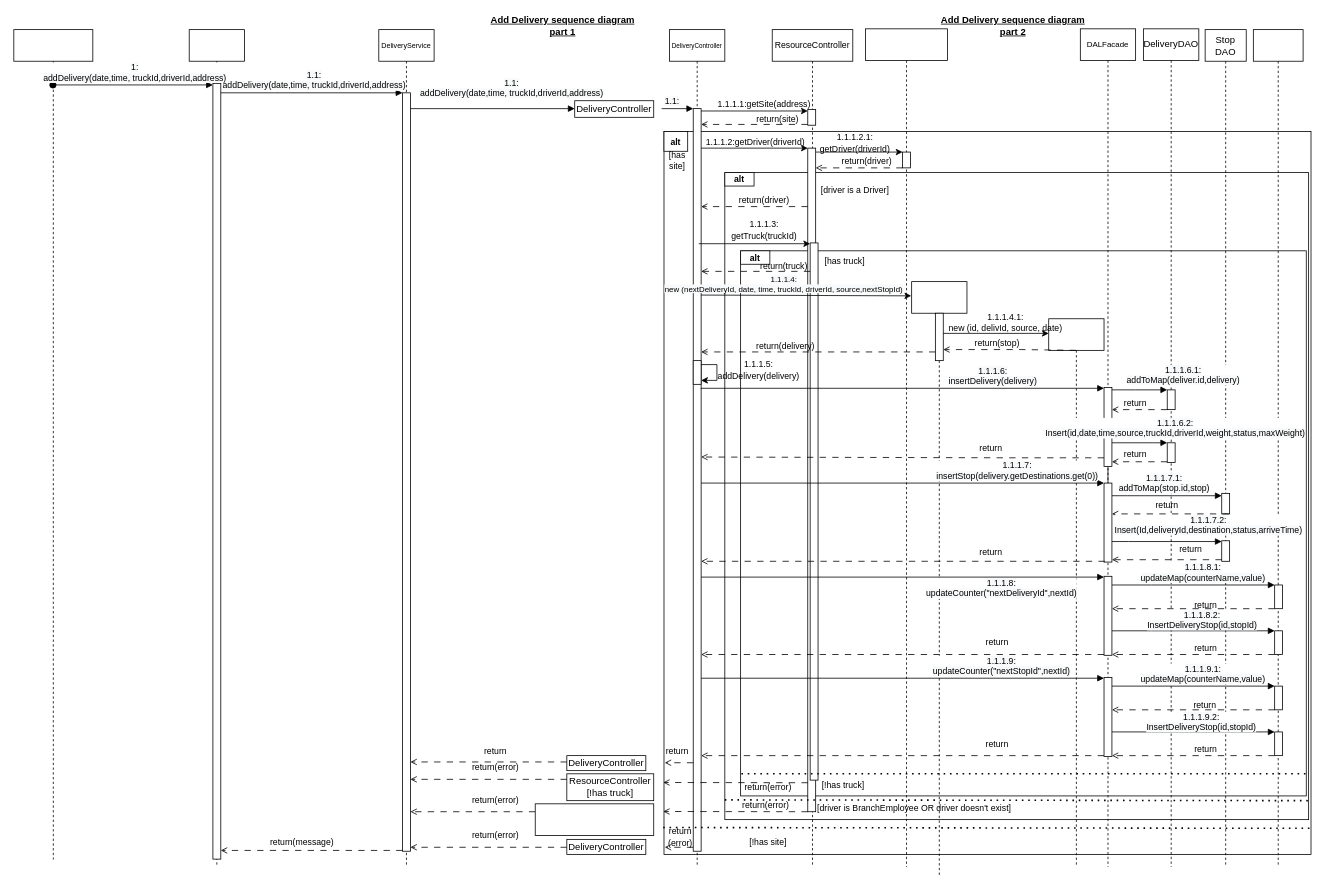
This 1325x889 diagram has some shape labels left out. The box of each missing label's shape, as (x1, y1, x2, y2) in pixels:
Counters DAO: (1253, 29, 1303, 867)
Delivery: (911, 281, 967, 875)
DeliveryManager: (13, 29, 93, 860)
EmployeeController: (865, 28, 948, 867)
ResourceController [driver is BranchEmplyee or doesn't exist]: (534, 803, 654, 835)
Stop: (1048, 318, 1104, 867)
SystemFacade: (188, 29, 245, 867)
